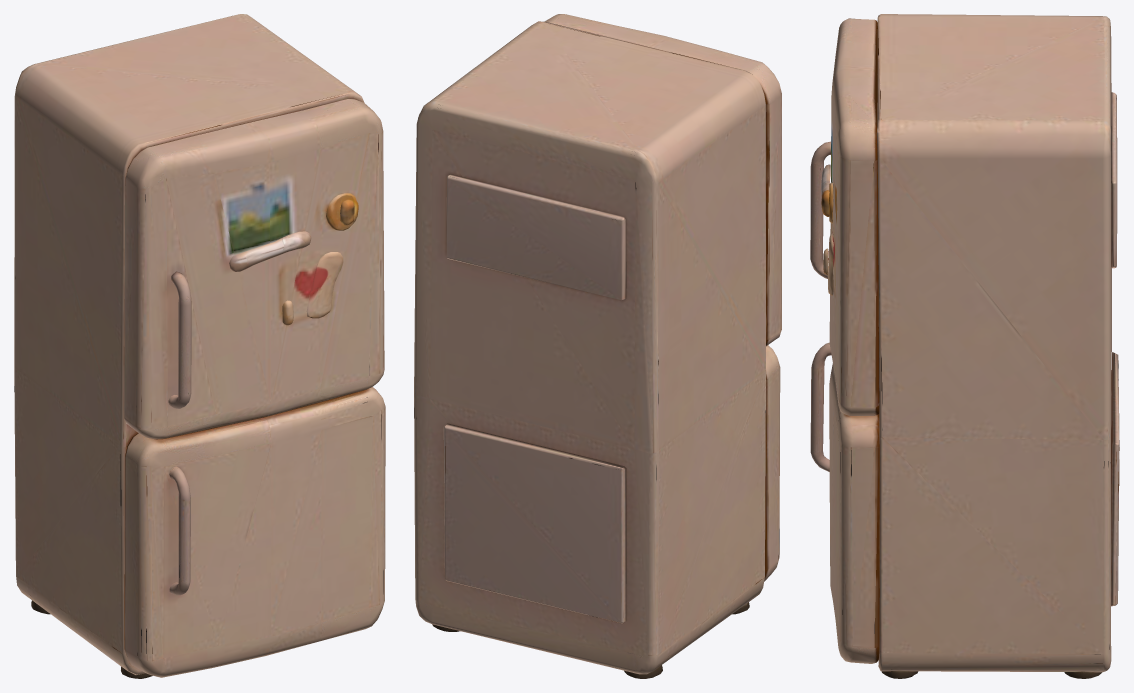
Rendered from cream_fridge.glb.
3 renders of one model, left to right at view 1: azimuth 30°, elevation 25°; view 2: azimuth 150°, elevation 25°; view 3: azimuth 270°, elevation 25°, orthographic. The views are drawn at different scales.
Parts seen in each view (by area): view 1: geometry_0, upper-door; view 2: geometry_0, upper-door; view 3: geometry_0, upper-door.
Part boxes in pixels (x1=…): geometry_0: x1=14, y1=14, x2=385, y2=678; upper-door: x1=124, y1=99, x2=384, y2=439; geometry_0: x1=414, y1=21, x2=780, y2=678; upper-door: x1=545, y1=14, x2=781, y2=346; geometry_0: x1=810, y1=14, x2=1119, y2=678; upper-door: x1=810, y1=18, x2=879, y2=415.
Bounding box in the file's own units: 0.4852 × 1 × 0.5052.
Materials: 1 (1 with a texture image).
